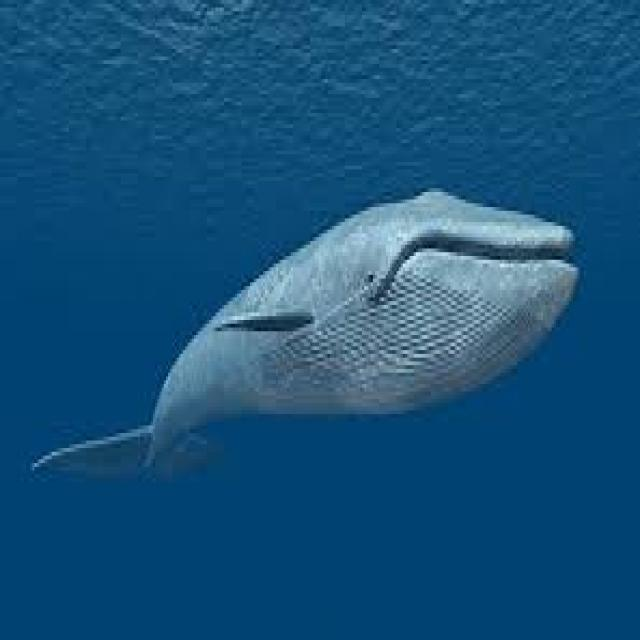blue_whale: (12, 162, 588, 561)
